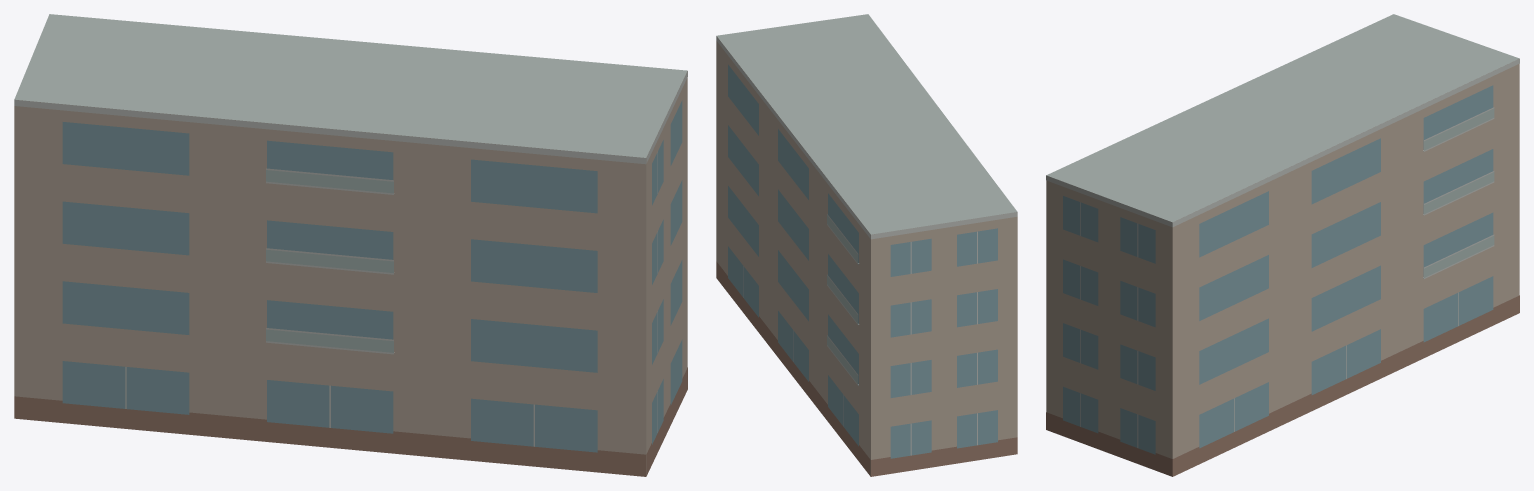
Rendered from survey-upis-32708904.glb.
3 renders of one model, left to right at view 1: azimuth 30°, elevation 25°; view 2: azimuth 150°, elevation 25°; view 3: azimuth 270°, elevation 25°, orthographic. The views are drawn at different scales.
Parts seen in each view (by area): view 1: survey-upis-32708904.tmp; view 2: survey-upis-32708904.tmp; view 3: survey-upis-32708904.tmp.
Boxes of the visible parts, left/top/right/bottom form: survey-upis-32708904.tmp: left=14, top=14, right=687, bottom=476; survey-upis-32708904.tmp: left=716, top=14, right=1017, bottom=476; survey-upis-32708904.tmp: left=1046, top=14, right=1519, bottom=476.
Bounding box in the file's own units: 21.78 × 12.4 × 20.92.
